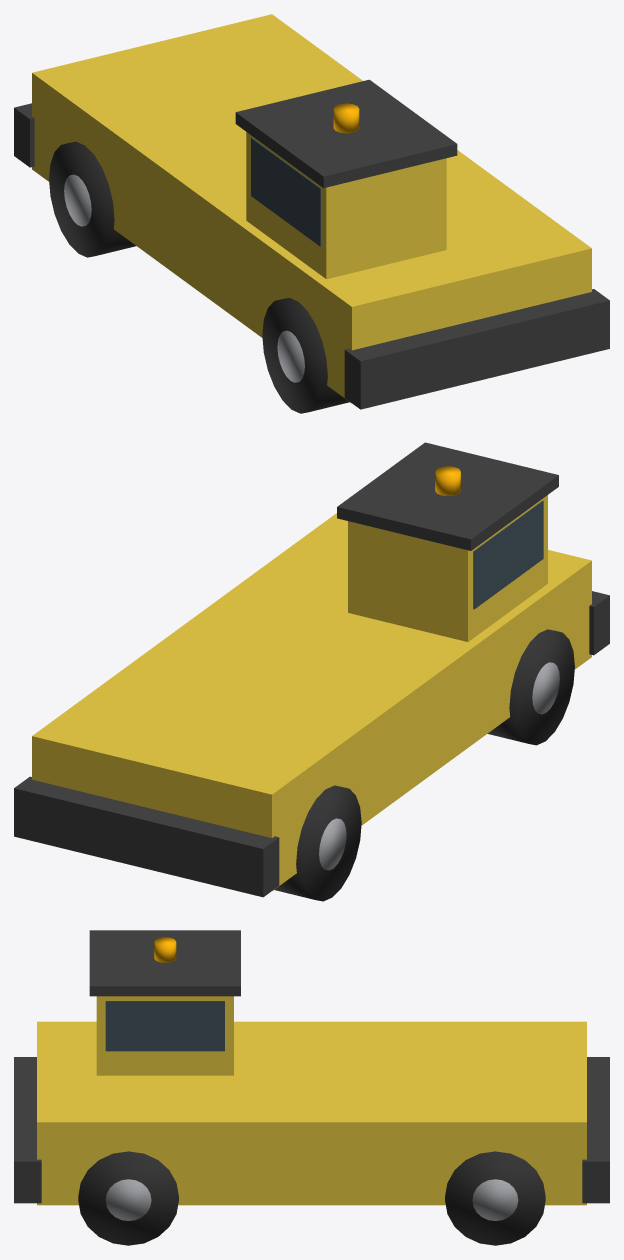
Rendered from tug.glb.
3 renders of one model, top to bottom at view 1: azimuth 30°, elevation 25°; view 2: azimuth 150°, elevation 25°; view 3: azimuth 270°, elevation 25°, orthographic. The views are drawn at different scales.
Visible parts, largest first — view 1: Tug beacon.001; view 2: Tug beacon.001; view 3: Tug beacon.001.
Part boxes in pixels (box(x1,y1,x2,y2)): Tug beacon.001: box(14, 14, 609, 413); Tug beacon.001: box(14, 442, 609, 901); Tug beacon.001: box(14, 930, 609, 1245).
Size of the model in its own units: 2.77 by 2.76 by 6.5.
